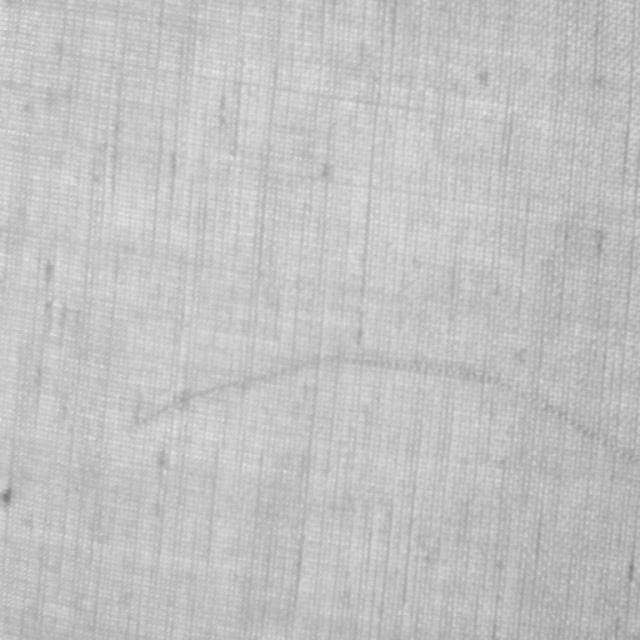objects: (133, 342, 639, 472)
